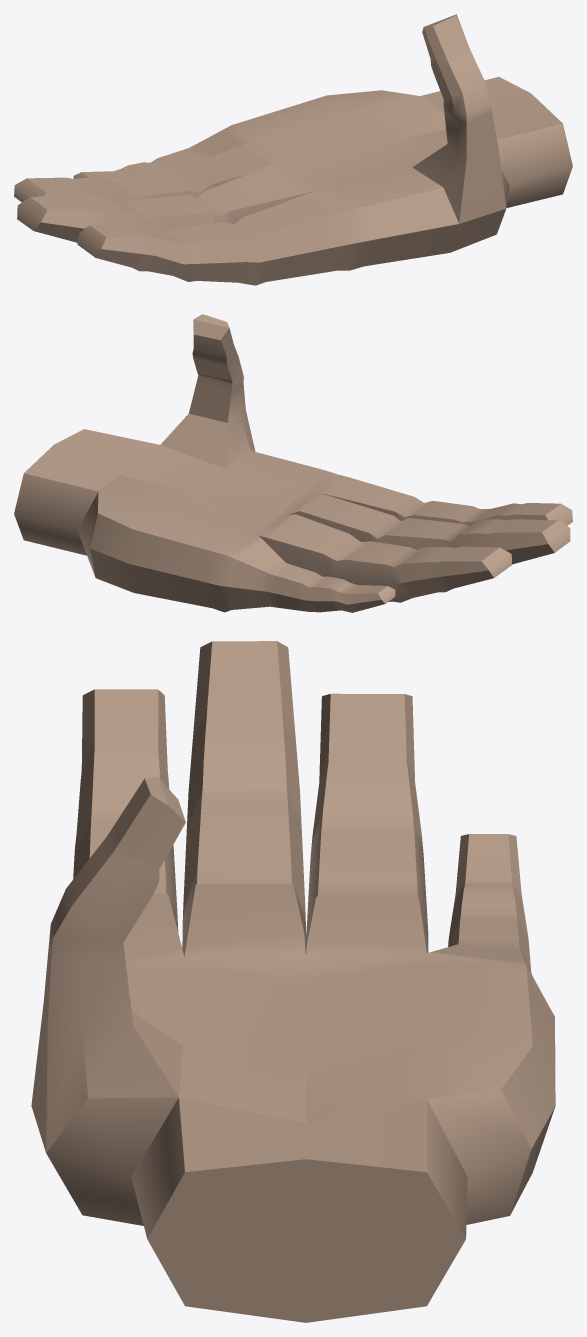
File: Hand.fbx
3 renders of one model, top to bottom at view 1: azimuth 30°, elevation 25°; view 2: azimuth 150°, elevation 25°; view 3: azimuth 270°, elevation 25°, orthographic. The views are drawn at different scales.
Visible parts, largest first — view 1: pCube1; view 2: pCube1; view 3: pCube1.
Boxes of the visible parts, <box> form: pCube1: <box>14,14,572,285</box>; pCube1: <box>14,314,572,612</box>; pCube1: <box>31,641,555,1322</box>.
Size of the model in its own units: 0.0721 by 0.0294 by 0.0332.
